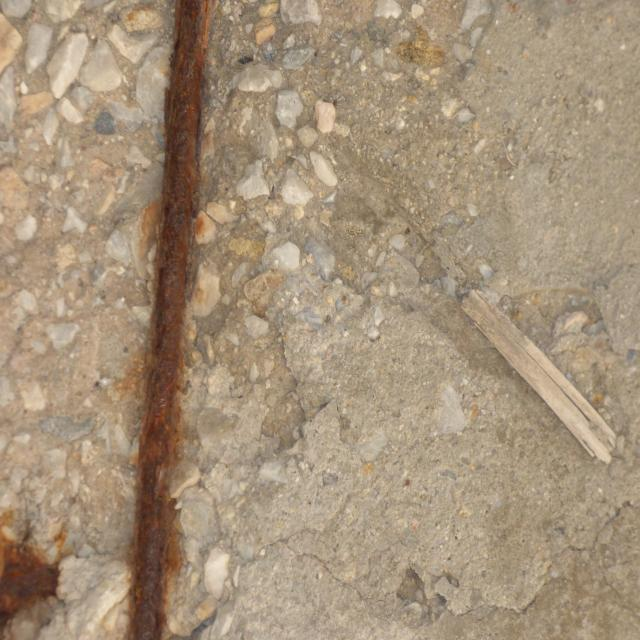corrosion: (115, 2, 235, 640), (0, 501, 73, 639)
